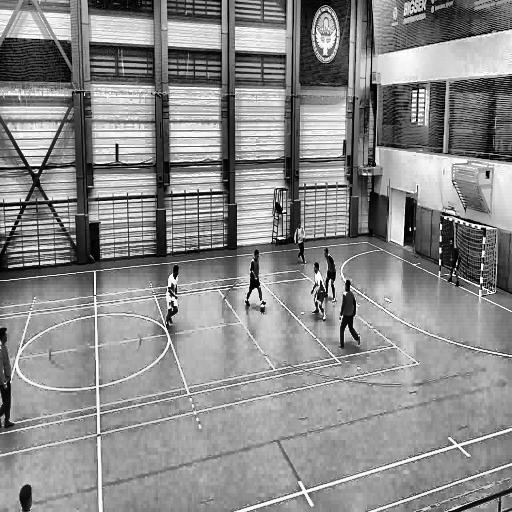ball: (259, 303, 266, 313)
player: (338, 279, 361, 351), (0, 328, 16, 430), (246, 247, 265, 306), (310, 262, 328, 324), (166, 264, 180, 331), (323, 246, 338, 302), (447, 236, 461, 286), (294, 218, 308, 263)
